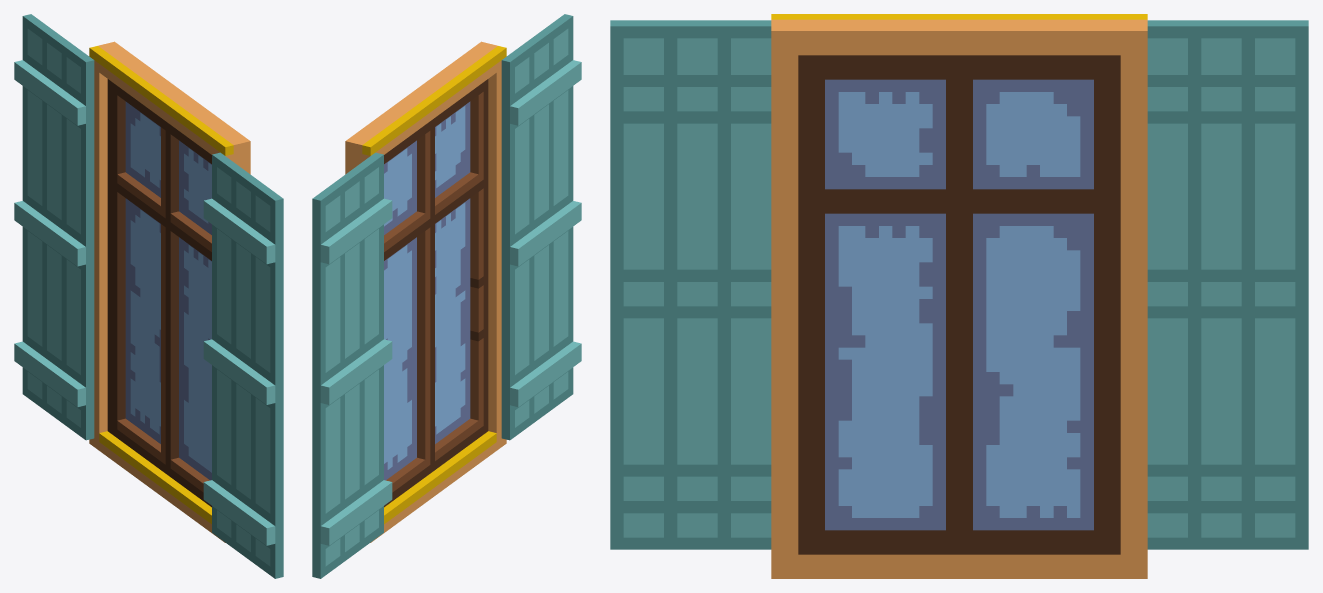
Rendered from window_textured_big_blue_orange.glb.
The picture shows the model from 3 angles, left to right: view 1: azimuth 30°, elevation 25°; view 2: azimuth 150°, elevation 25°; view 3: azimuth 270°, elevation 25°; orthographic projection. The views are drawn at different scales.
Visible parts, largest first — view 1: window_textured_big_blue_orange; view 2: window_textured_big_blue_orange; view 3: window_textured_big_blue_orange.
Boxes of the visible parts, bbox=[...] form: window_textured_big_blue_orange: bbox=[14, 14, 283, 578]; window_textured_big_blue_orange: bbox=[312, 14, 581, 578]; window_textured_big_blue_orange: bbox=[610, 14, 1308, 578].
Size of the model in its own units: 0.5 by 4.5 by 5.2.
1 material, 1 textured.
